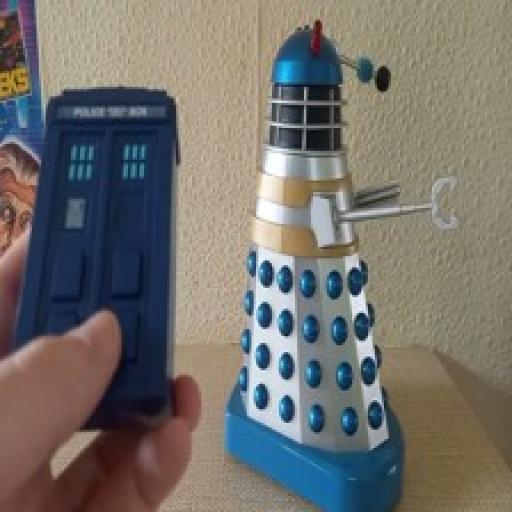dalek: (225, 13, 466, 512)
